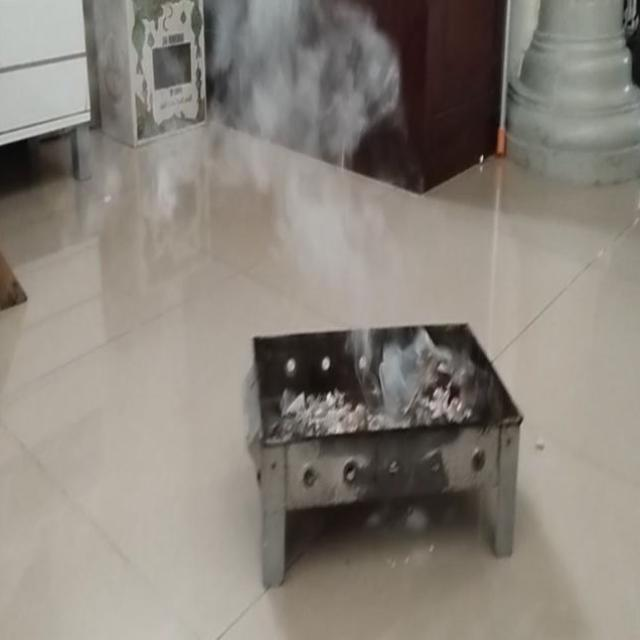fire: (211, 2, 402, 194), (260, 197, 418, 360)
